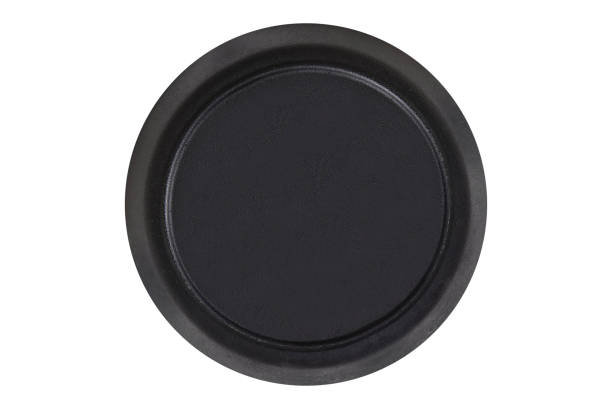daire: (121, 24, 494, 391)
